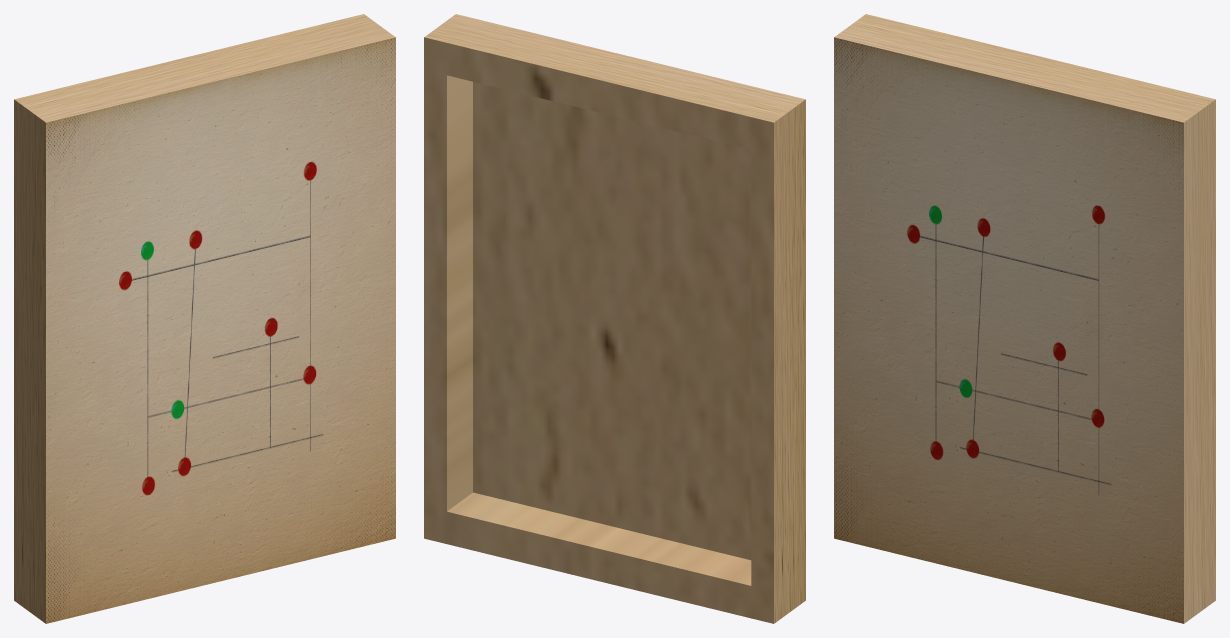
Rendered from Painting 7.fbx.
3 renders of one model, left to right at view 1: azimuth 30°, elevation 25°; view 2: azimuth 150°, elevation 25°; view 3: azimuth 330°, elevation 25°, orthographic.
Visible parts, largest first — view 1: Cube.003; view 2: Cube.003; view 3: Cube.003.
Part boxes in pixels (left/top/right/bottom): Cube.003: left=14, top=14, right=395, bottom=623; Cube.003: left=424, top=14, right=805, bottom=623; Cube.003: left=834, top=14, right=1215, bottom=623.
Bounding box in the file's own units: 0.7093 × 0.9713 × 0.1118.
